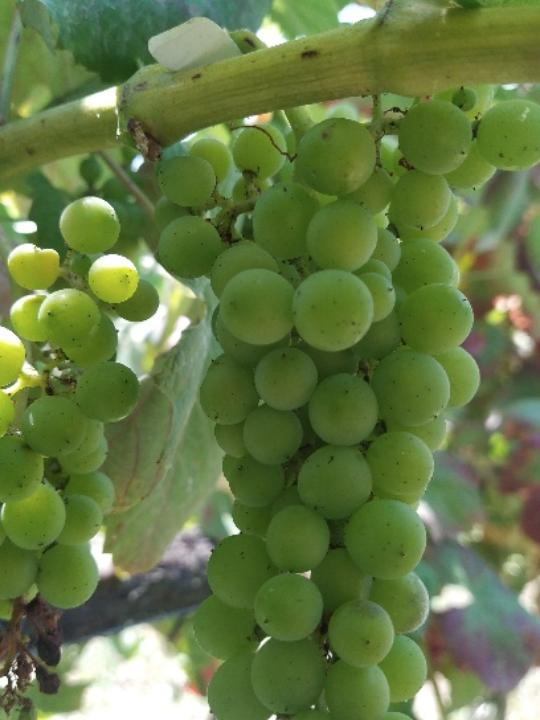grape: (150, 85, 540, 720), (0, 189, 165, 720)
